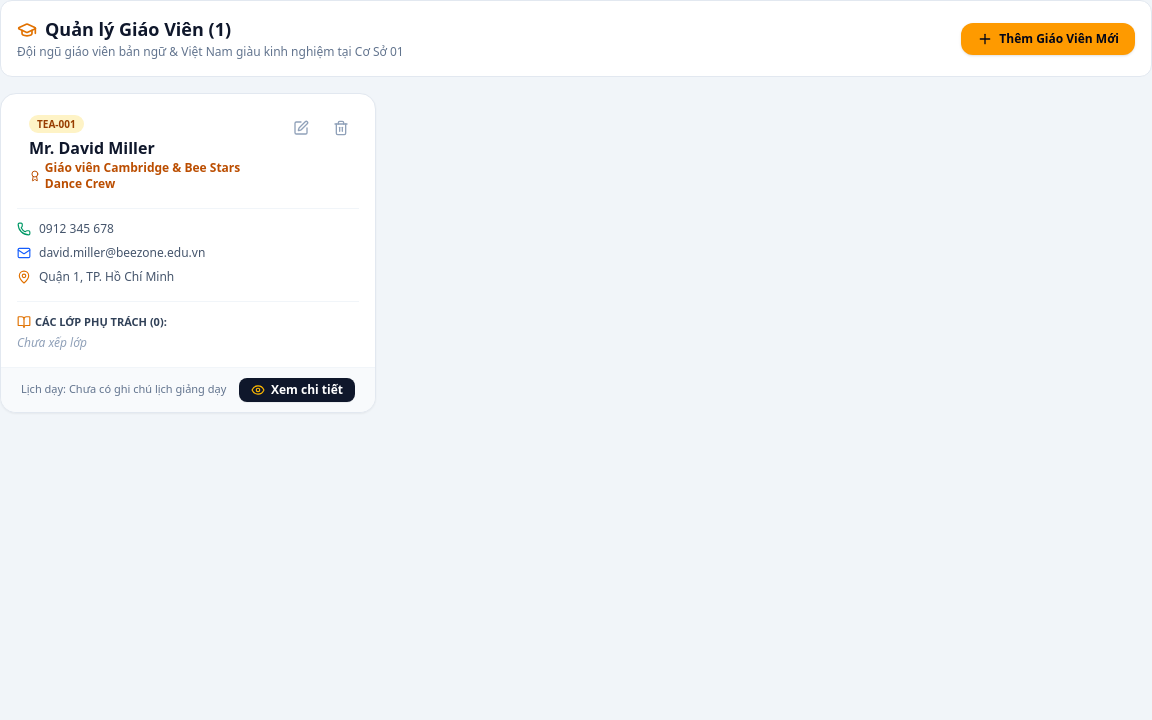
Test case: shows only real schedule data in teacher details and never invents a default evening schedule
Click the button "Xem chi tiết": (297, 390) [239,378,355,402]
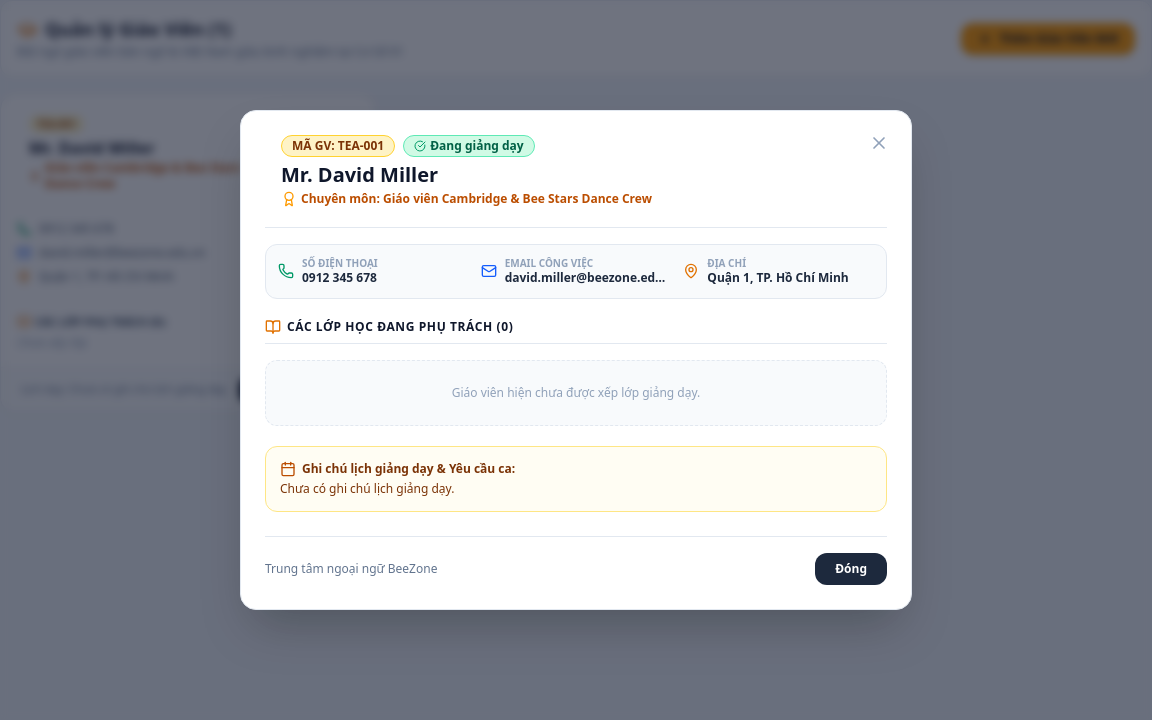
Expected: the text "Lịch dạy: Chưa có ghi chú lịch giảng dạy" is shown, [21,381,234,398]
Expected: the heading "Các lớp học đang phụ trách (0)" is shown, [265,319,887,344]
Expected: the text "Giáo viên hiện chưa được xếp lớp giảng dạy." is shown, [265,360,887,426]
